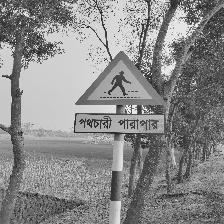Pedestrian-crossing: (74, 52, 168, 135)
